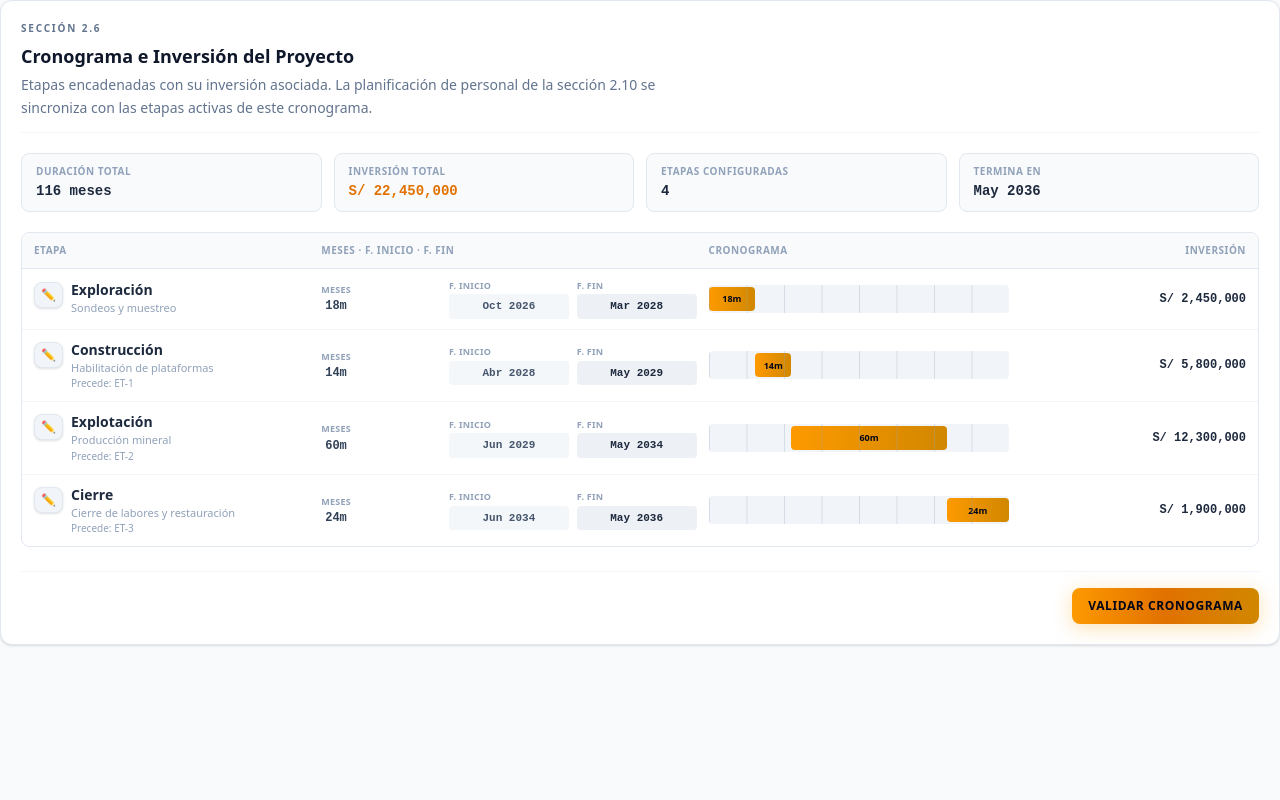
Test case: CronogramaComponent › edición en línea de las etapas › abre y cierra la fila al pulsar el botón de edición
This screenshot has width=1280, height=800.
Step 1. Click the button with class "boton-editar" next to "Exploración" → [48, 295], box [34,282,63,308]
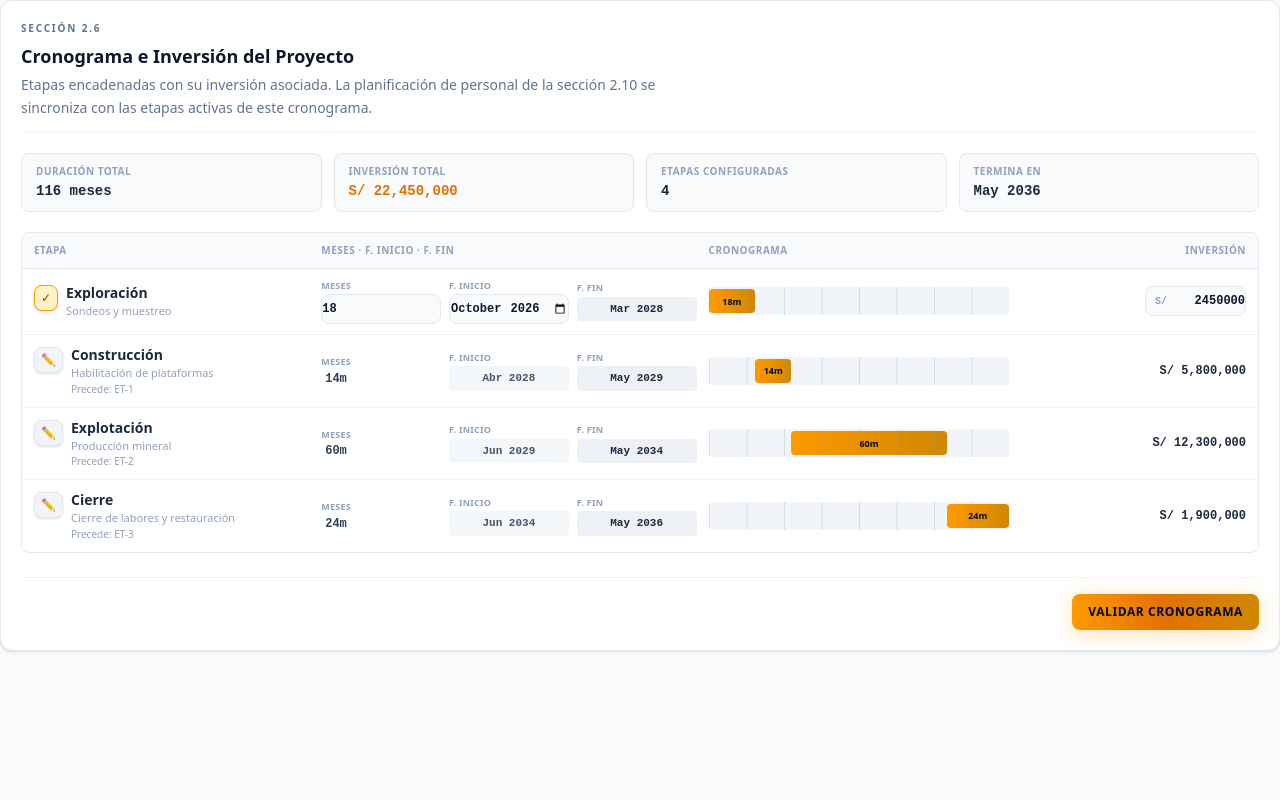
Result: the number of number fields with class "inline-input" is 3 at [321,294,441,324]; [449,294,569,324]; [1145,286,1246,316]
Step 2. Click the button with class "boton-editar" showing "✓" → [46, 298], box [34,285,58,311]
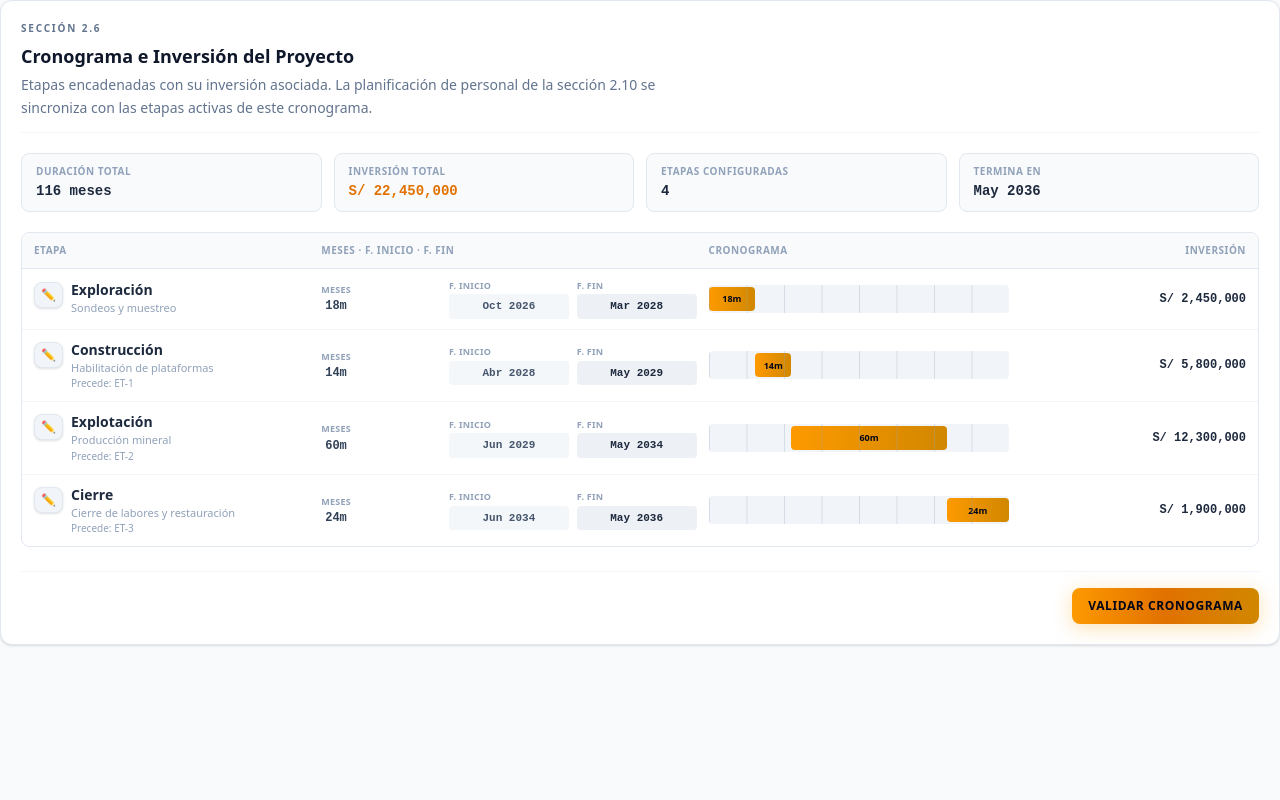
Result: no number fields with class "inline-input" are shown
